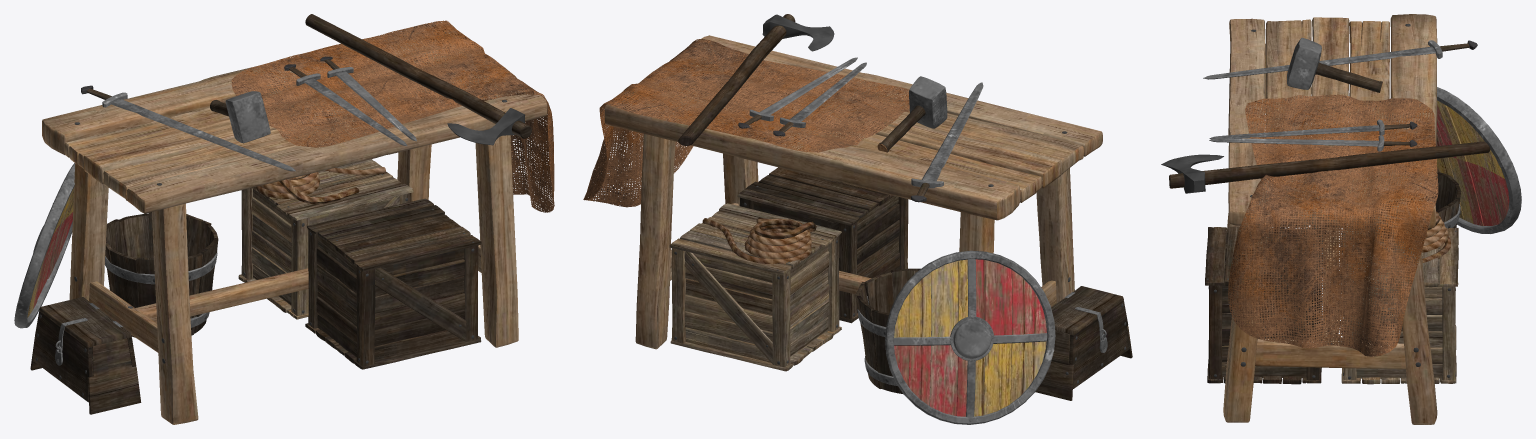
File: table.glb
The picture shows the model from 3 angles, left to right: view 1: azimuth 30°, elevation 25°; view 2: azimuth 150°, elevation 25°; view 3: azimuth 270°, elevation 25°; orthographic projection. The views are drawn at different scales.
Visible parts, largest first — view 1: KB3D_VAL_BldgMD_H_Table; view 2: KB3D_VAL_BldgMD_H_Table; view 3: KB3D_VAL_BldgMD_H_Table.
Boxes of the visible parts, bbox=[...] form: KB3D_VAL_BldgMD_H_Table: bbox=[14, 14, 554, 424]; KB3D_VAL_BldgMD_H_Table: bbox=[583, 14, 1132, 424]; KB3D_VAL_BldgMD_H_Table: bbox=[1161, 14, 1521, 424].
Bounding box in the file's own units: 2.52 × 1.35 × 1.62.
12 materials, 12 textured.
